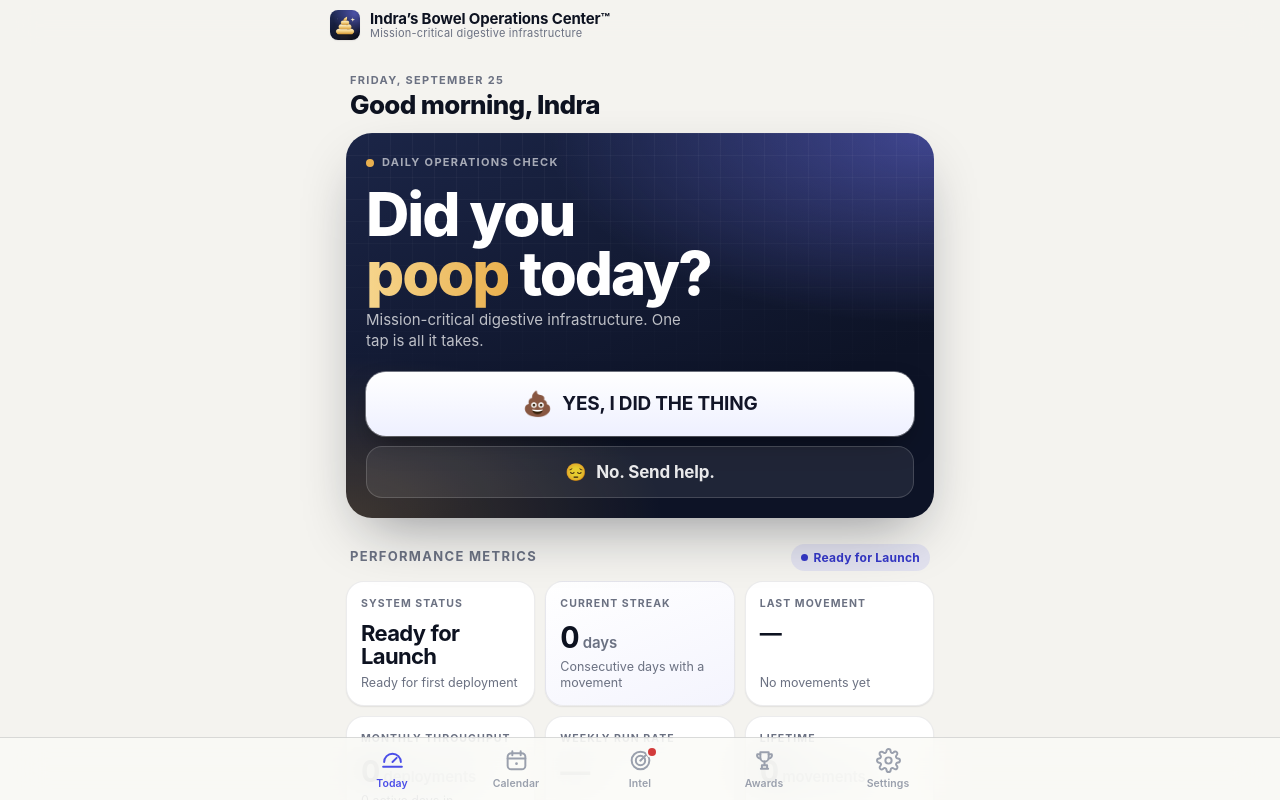
Test case: Settings › uses human language only
Check: the heading "Did you poop today?" is shown, box [366,178,711,309]
What coordinates should you click on to do the following:
click the button "Settings"
I would click on:
 (888, 769)
Its box is [826,744,950,794].
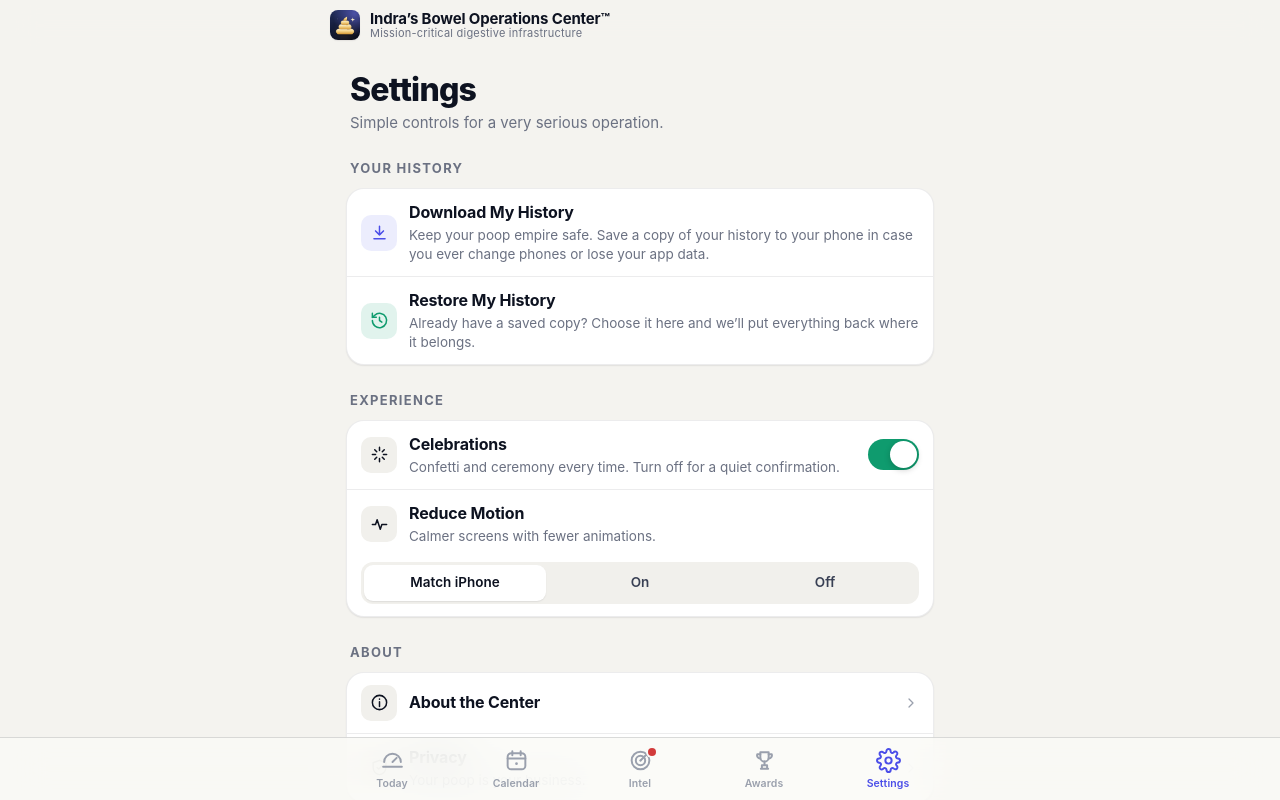
Check: the text "Download My History" is shown, box [409,202,574,222]
Check: the text "Restore My History" is shown, box [409,290,556,310]
